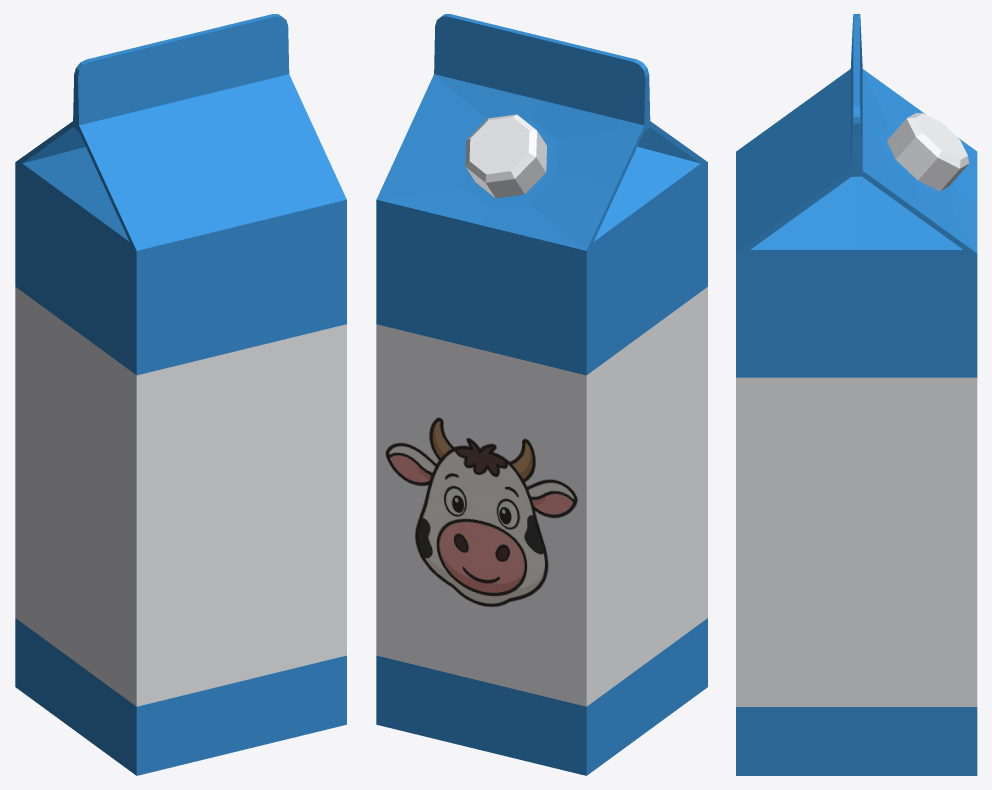
Rendered from Asset_01_carton-leche.fbx.
3 renders of one model, left to right at view 1: azimuth 30°, elevation 25°; view 2: azimuth 150°, elevation 25°; view 3: azimuth 270°, elevation 25°, orthographic.
Parts seen in each view (by area): view 1: carton-leche; view 2: carton-leche; view 3: carton-leche.
Part boxes in pixels (left/top/right/bottom): carton-leche: left=15, top=14, right=346, bottom=775; carton-leche: left=376, top=14, right=707, bottom=775; carton-leche: left=736, top=14, right=977, bottom=775.
Size of the model in its own units: 202 by 607 by 200.
